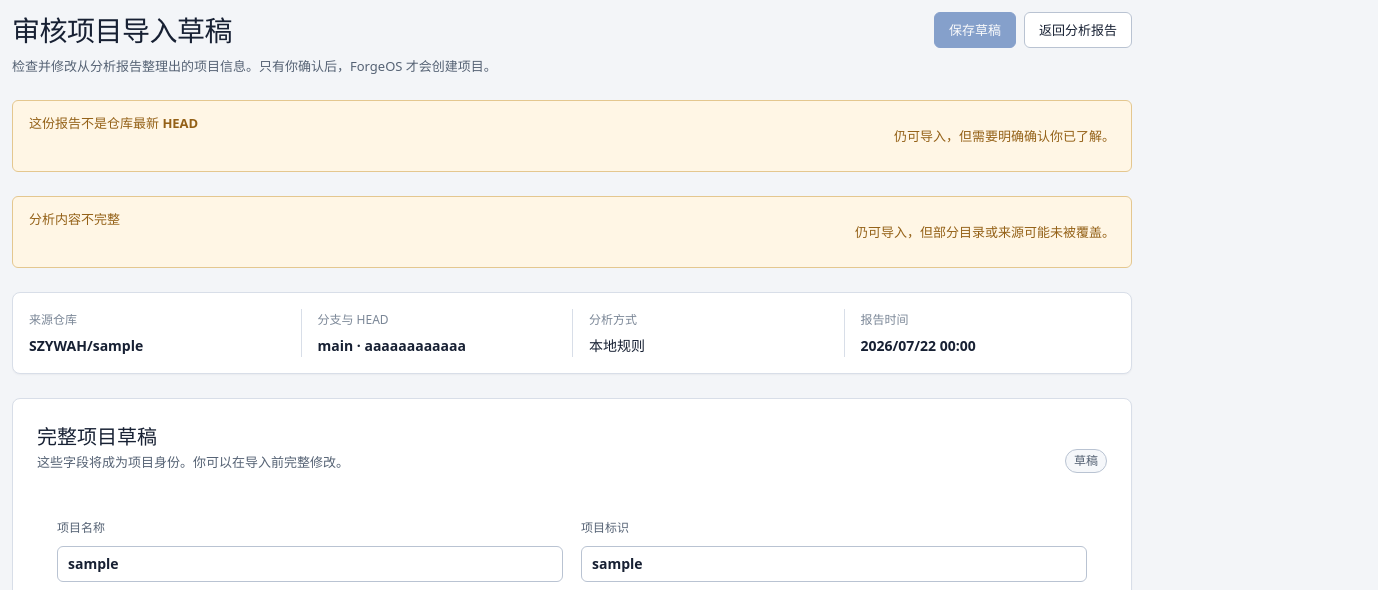
Test case: GitHub analysis human import › saves user edits before allowing review
Replace the text in the field labelled "项目名称" with "Edited project": (310, 564) [57,546,563,582]
(page scrolled)
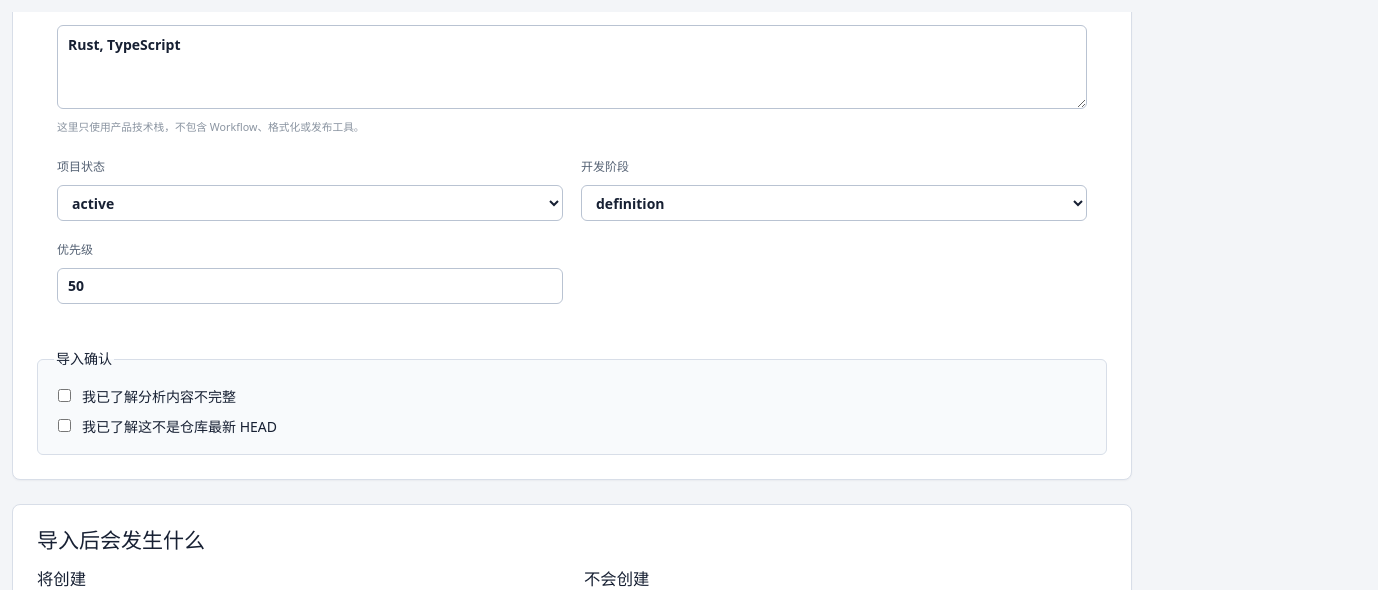
Click the checkbox labelled "我已了解分析内容不完整": (64, 396) [58,389,71,402]
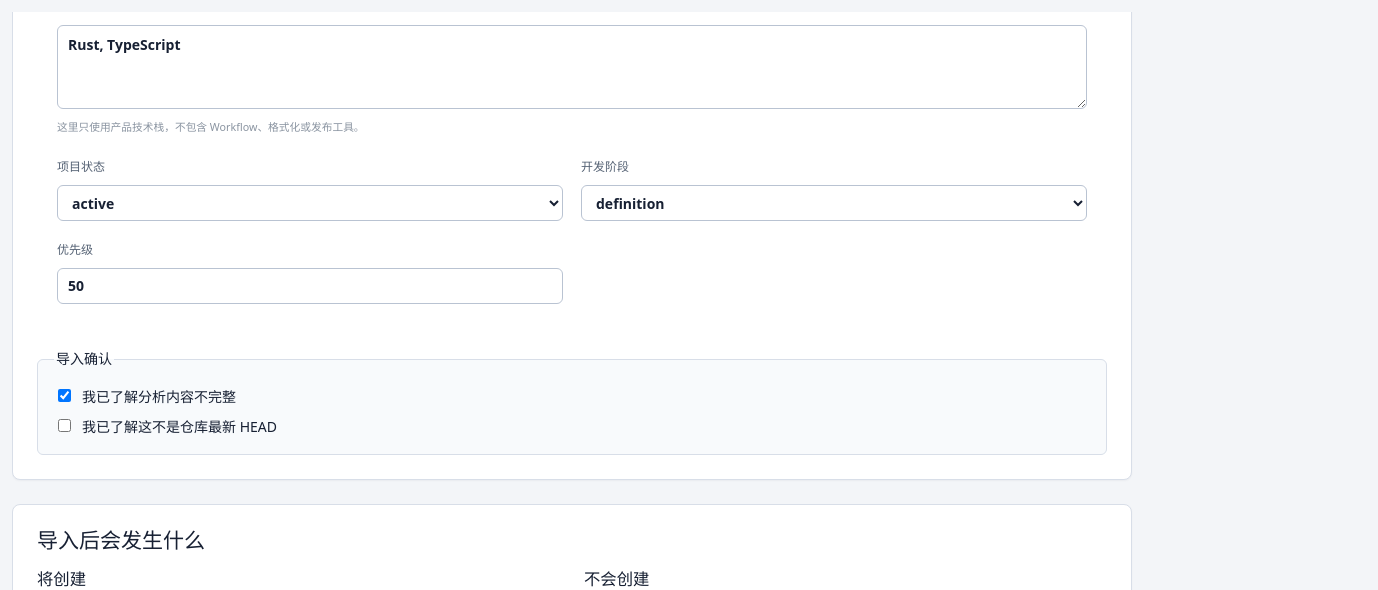
Click the checkbox labelled "我已了解这不是仓库最新 HEAD": (64, 426) [58,419,71,432]
(page scrolled)
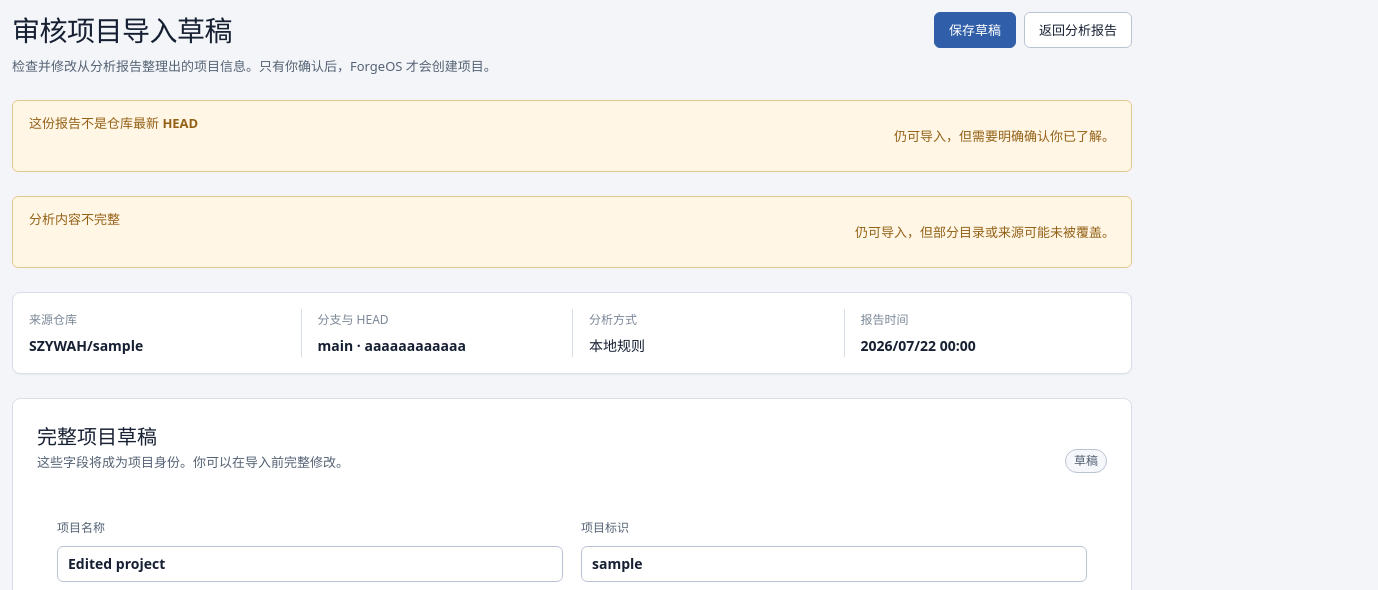
Click the button "保存草稿": (975, 30) [934,12,1016,48]
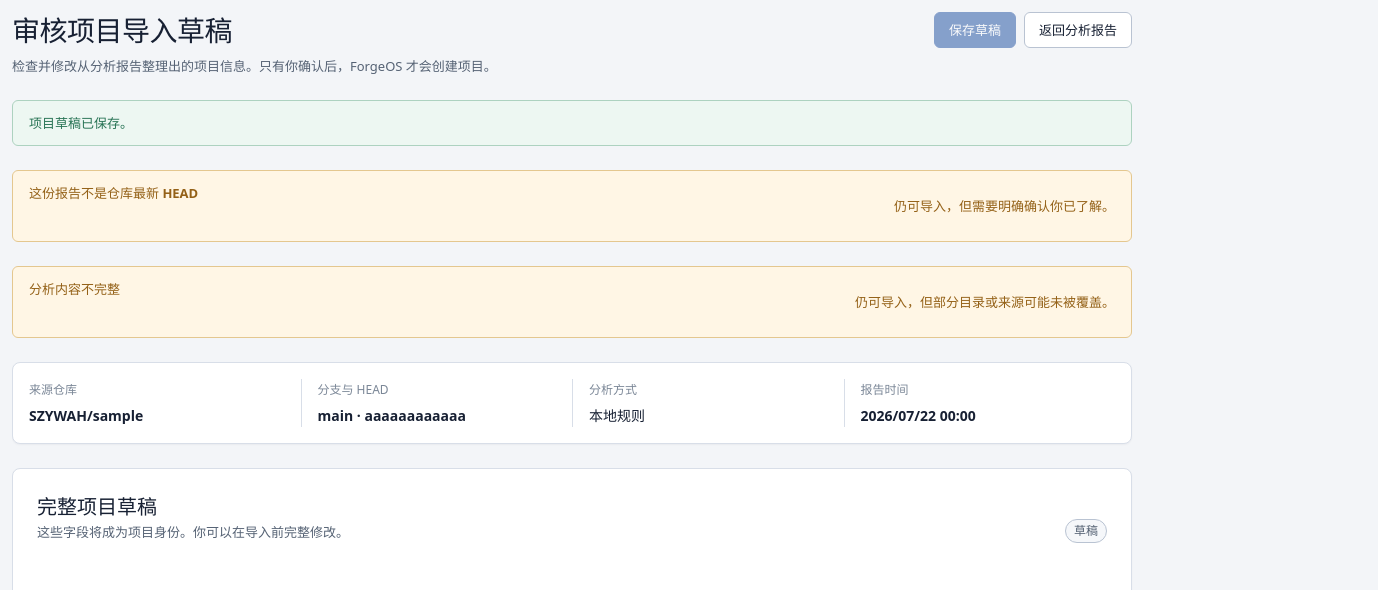
Now the text "项目草稿已保存。" is shown, box [12,100,1132,146]
